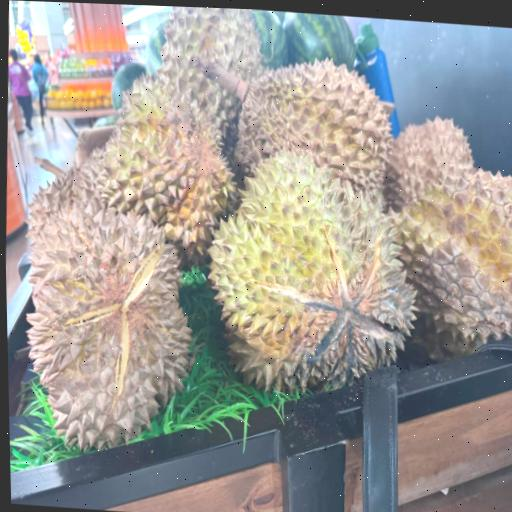mold: (295, 295, 383, 385)
